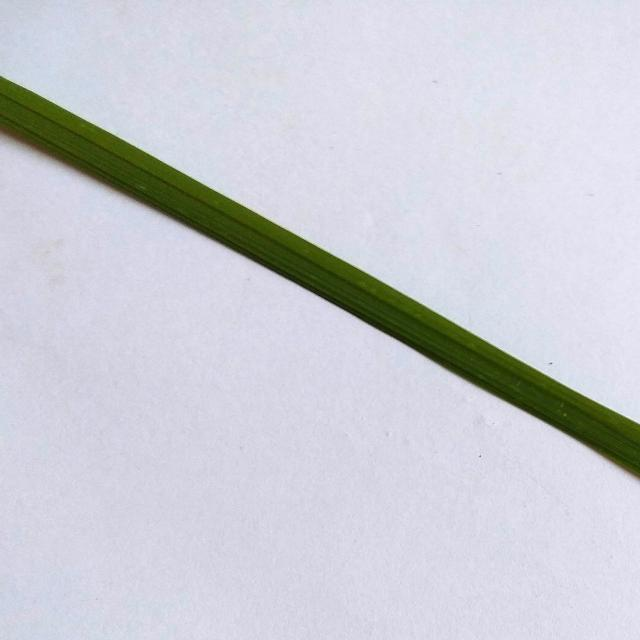Rice_Healthy: (0, 77, 640, 476)
